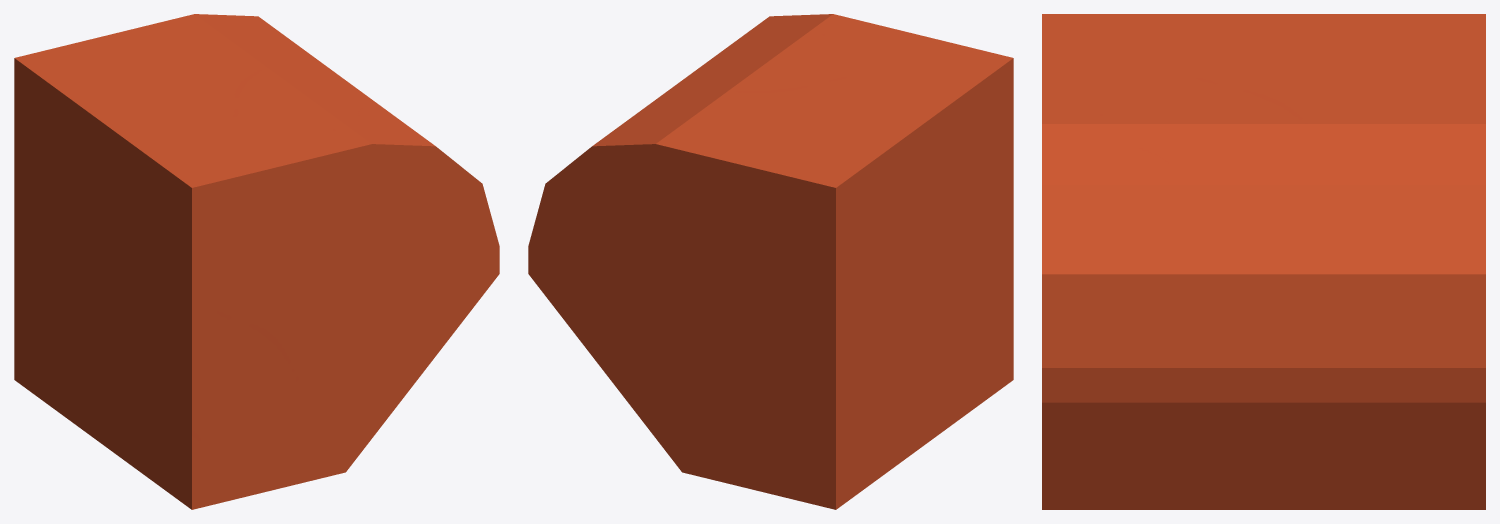
The model's file is Edge 1.fbx.
The picture shows the model from 3 angles, left to right: view 1: azimuth 30°, elevation 25°; view 2: azimuth 150°, elevation 25°; view 3: azimuth 270°, elevation 25°; orthographic projection. The views are drawn at different scales.
Parts seen in each view (by area): view 1: Edge; view 2: Edge; view 3: Edge.
Boxes of the visible parts, x1,y1,x2,y2 form: Edge: (14,14,499,509); Edge: (528,14,1013,509); Edge: (1042,14,1485,509).
Bounding box in the file's own units: 100 × 100 × 100.
